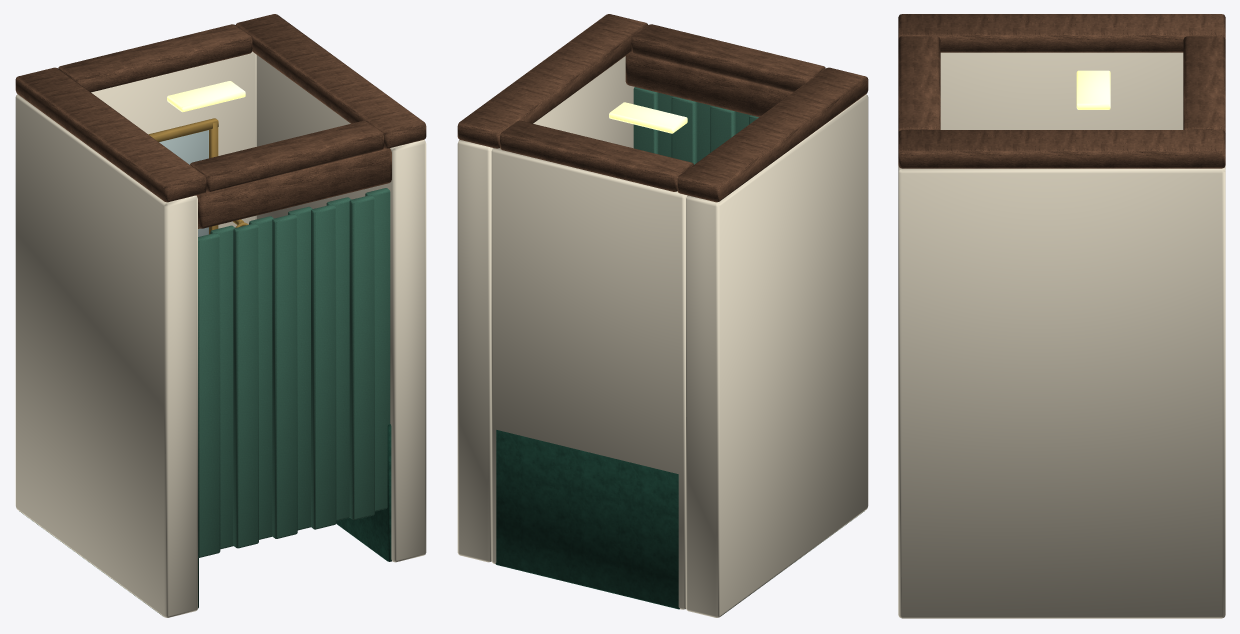
Rendered from asset_063_pro_shop_fitting_room.glb.
The picture shows the model from 3 angles, left to right: view 1: azimuth 30°, elevation 25°; view 2: azimuth 150°, elevation 25°; view 3: azimuth 270°, elevation 25°; orthographic projection. The views are drawn at different scales.
Visible parts, largest first — view 1: MESH_WestWall, MESH_FittingCurtainPleated, MESH_FittingRoomCrown, MESH_EastWall, MESH_RearWall, MESH_FrontHeader, MESH_FittingRoomWainscot, MESH_InteriorLightLens, MESH_MirrorGlass, MESH_MirrorFrame; view 2: MESH_WestWall, MESH_RearWall, MESH_FittingRoomCrown, MESH_FittingRoomWainscot, MESH_EastWall, MESH_FrontHeader, MESH_FittingCurtainPleated, MESH_InteriorLightLens; view 3: MESH_EastWall, MESH_FittingRoomCrown, MESH_WestWall, MESH_InteriorLightLens.
Part boxes in pixels (x1,y1,x2,y2): MESH_WestWall: (15, 94, 197, 617); MESH_FittingCurtainPleated: (198, 188, 390, 557); MESH_FittingRoomCrown: (15, 14, 426, 202); MESH_EastWall: (256, 55, 426, 562); MESH_RearWall: (91, 51, 256, 228); MESH_FrontHeader: (196, 148, 391, 228); MESH_FittingRoomWainscot: (19, 424, 391, 614); MESH_InteriorLightLens: (167, 81, 245, 112); MESH_MirrorGlass: (159, 130, 208, 236); MESH_MirrorFrame: (148, 118, 218, 234); MESH_WestWall: (686, 94, 868, 617); MESH_RearWall: (491, 148, 687, 609); MESH_FittingRoomCrown: (457, 14, 868, 202); MESH_FittingRoomWainscot: (495, 430, 864, 614); MESH_EastWall: (457, 56, 634, 562); MESH_FrontHeader: (625, 51, 792, 116); MESH_FittingCurtainPleated: (633, 87, 758, 164); MESH_InteriorLightLens: (609, 102, 687, 133); MESH_EastWall: (898, 165, 1225, 618); MESH_FittingRoomCrown: (898, 14, 1225, 168); MESH_WestWall: (940, 52, 1183, 129); MESH_InteriorLightLens: (1076, 70, 1110, 109).
Size of the model in its own units: 1.55 by 2.45 by 1.55.
8 materials, 4 textured.
